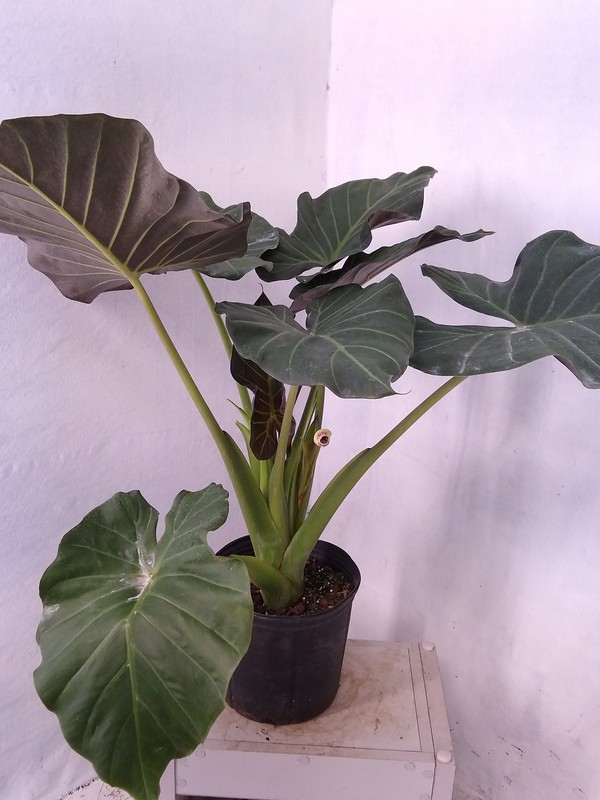plant: (1, 112, 596, 800)
pot: (198, 532, 363, 728)
